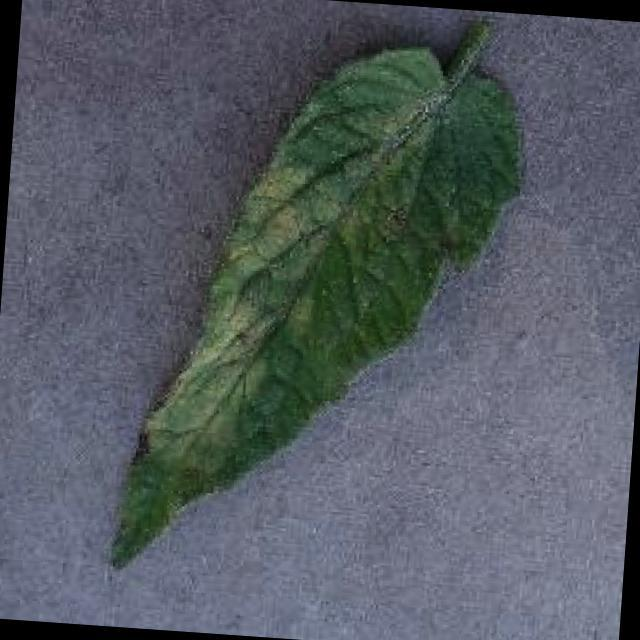Tomato mold leaf: (110, 32, 530, 600)
